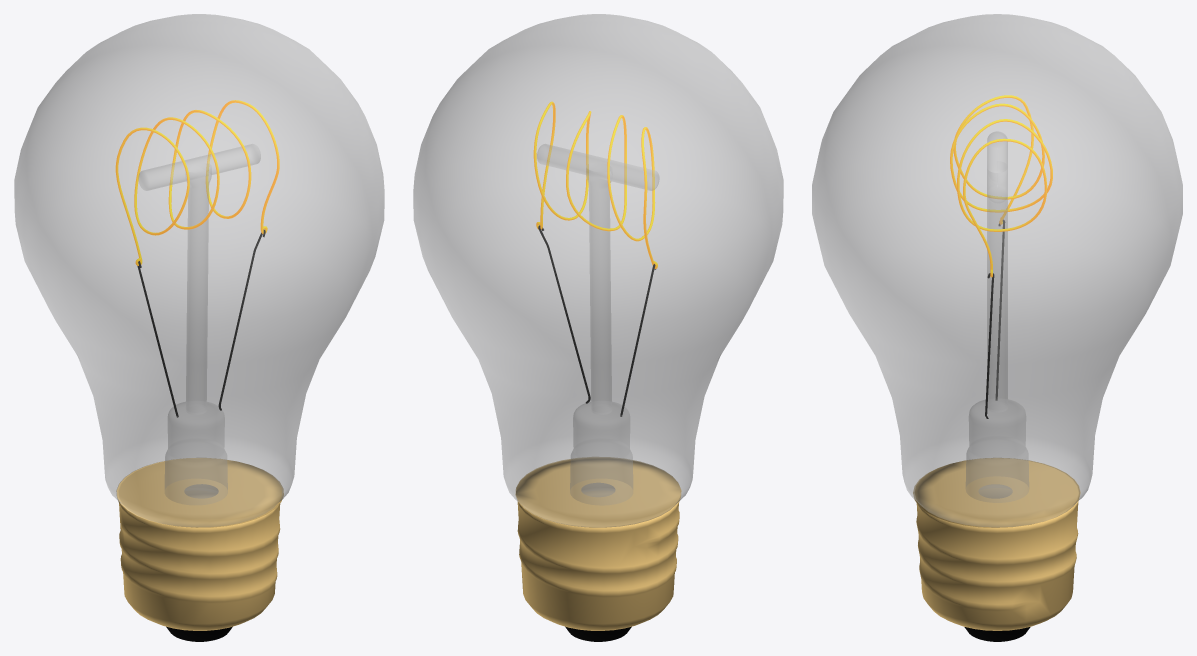
File: e_bombilla_edison.glb
3 renders of one model, left to right at view 1: azimuth 30°, elevation 25°; view 2: azimuth 150°, elevation 25°; view 3: azimuth 270°, elevation 25°, orthographic.
Visible parts, largest first — view 1: Object_2; view 2: Object_2; view 3: Object_2.
Boxes of the visible parts, x1,y1,x2,y2 form: Object_2: (14,14,384,641); Object_2: (413,14,783,641); Object_2: (812,14,1182,641).
Bounding box in the file's own units: 0.0778 × 0.14 × 0.0778.
